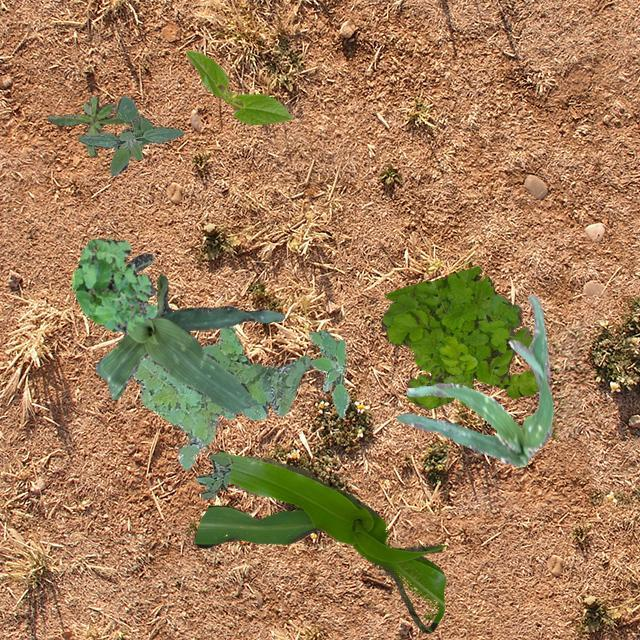crop: (193, 448, 444, 632), (95, 253, 282, 412), (396, 294, 552, 466), (186, 48, 292, 124)
weed: (133, 327, 310, 468), (380, 266, 538, 408), (76, 94, 182, 174), (70, 237, 156, 331), (46, 95, 130, 156), (307, 328, 348, 416), (194, 452, 230, 498)
